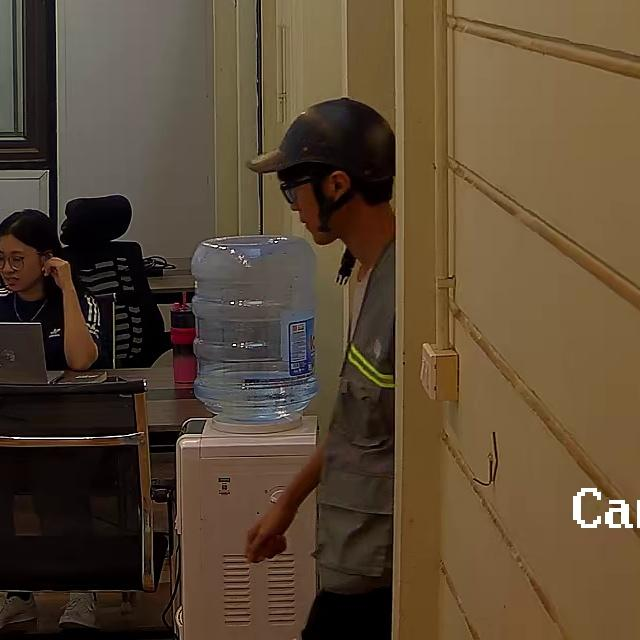helmet: (249, 98, 397, 205)
no_helmet: (1, 208, 67, 271)
none: (1, 282, 102, 370)
vest: (313, 251, 398, 598)
